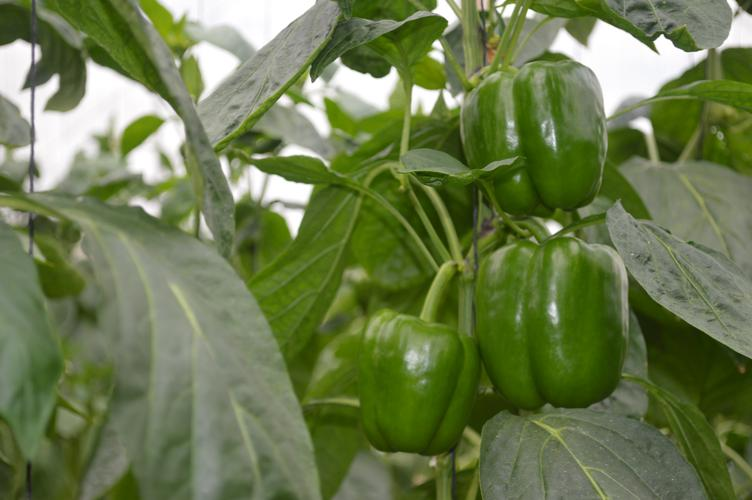BellPepper: (472, 239, 631, 412), (459, 59, 603, 203), (353, 306, 473, 450)
